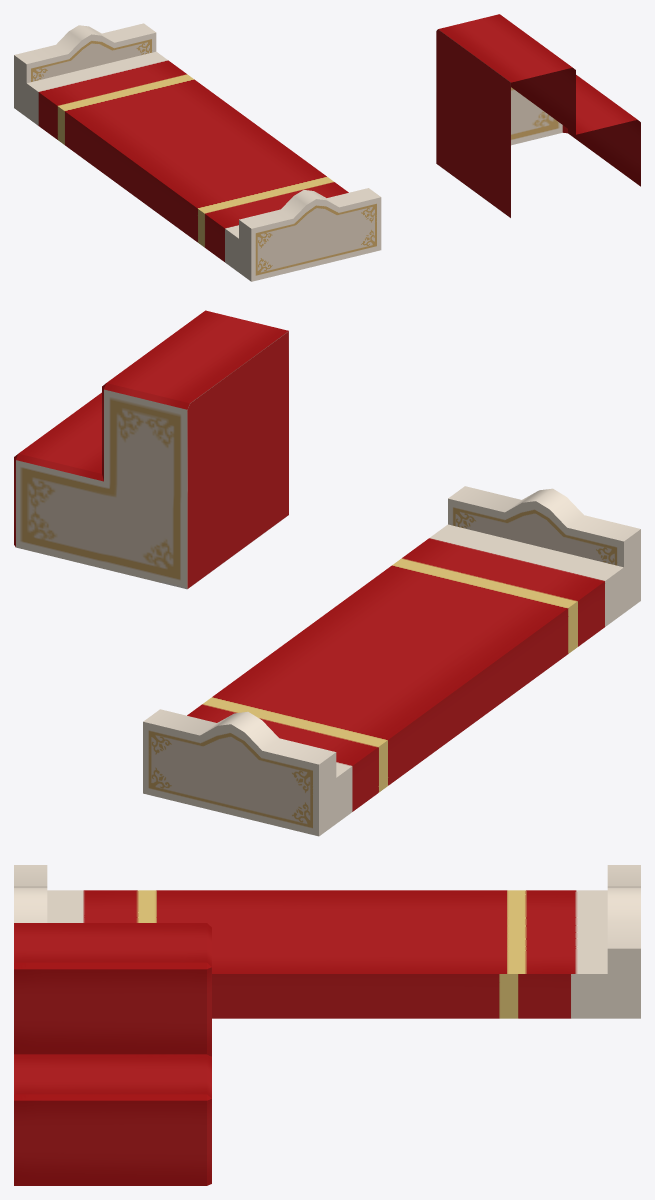
File: stairsandplatform.fbx
3 views of the same model, one above another, from view 1: azimuth 30°, elevation 25°; view 2: azimuth 150°, elevation 25°; view 3: azimuth 270°, elevation 25° (orthographic). The views are drawn at different scales.
Visible parts, largest first — view 1: platform, stairs; view 2: platform, stairs; view 3: platform, stairs.
Boxes of the visible parts, x1,y1,x2,y2 form: platform: [14, 23, 381, 281]; stairs: [436, 14, 640, 217]; platform: [143, 486, 640, 836]; stairs: [14, 310, 288, 589]; platform: [14, 865, 640, 1018]; stairs: [14, 923, 211, 1185].
Bounding box in the file's own units: 300 × 100 × 317.
